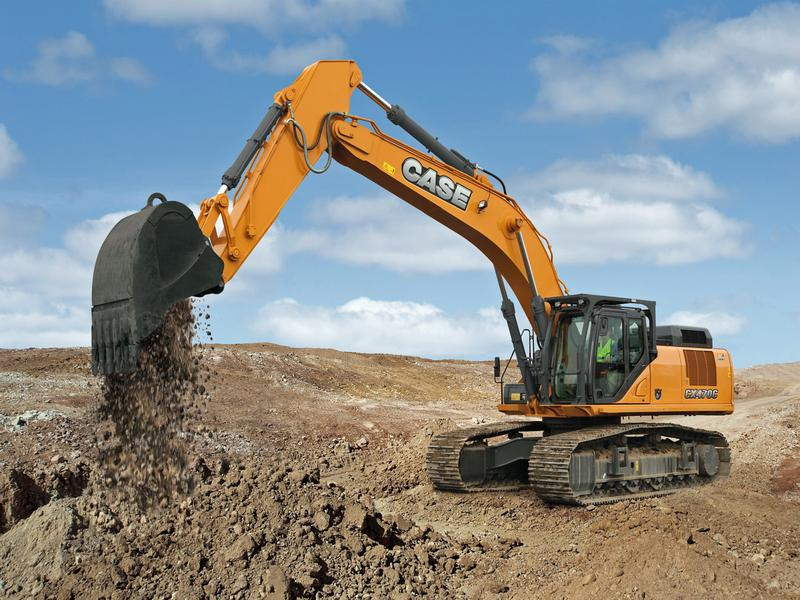shovel: (87, 50, 744, 517)
